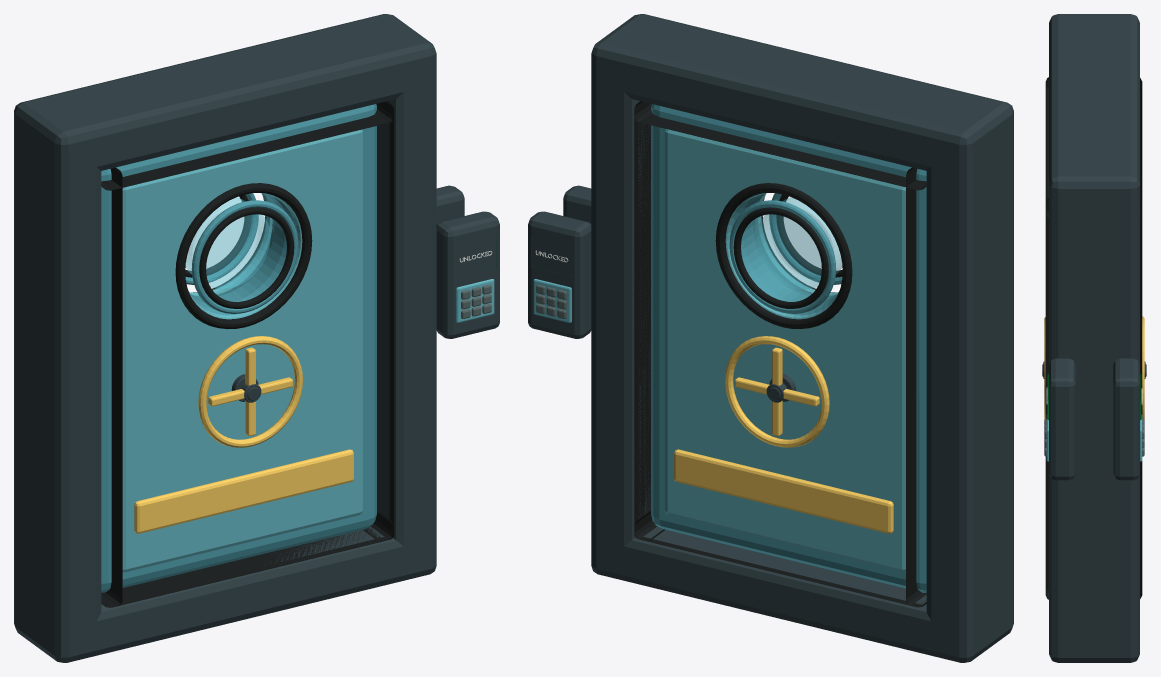
Rendered from Porte de sas standard.glb.
The picture shows the model from 3 angles, left to right: view 1: azimuth 30°, elevation 25°; view 2: azimuth 150°, elevation 25°; view 3: azimuth 270°, elevation 25°; orthographic projection. The views are drawn at different scales.
Parts seen in each view (by area): view 1: STD_HATCH_Front_Raised_Plate, STD_HATCH_Frame_Left, STD_HATCH_Frame_Top, STD_HATCH_Frame_Right, STD_HATCH_Moving_Door_Leaf_1p5x2m, STD_HATCH_Frame_Bottom_Threshold, STD_HATCH_Cartoon_Lower_Reinforcement, STD_HATCH_Front_Electronic_Control_Block, STD_HATCH_Inner_Rubber_Seal_Left, STD_HATCH_Inner_Rubber_Seal_Bottom, STD_HATCH_Front_Outer_Rubber_Pressure_Seal, STD_HATCH_Transparent_Center_Glass_Disk (+11 smaller); view 2: STD_HATCH_Back_Raised_Plate, STD_HATCH_Frame_Left, STD_HATCH_Frame_Top, STD_HATCH_Frame_Right, STD_HATCH_Frame_Bottom_Threshold, STD_HATCH_Moving_Door_Leaf_1p5x2m, STD_HATCH_Back_Lower_Reinforcement, STD_HATCH_Inner_Rubber_Seal_Right, STD_HATCH_Back_Electronic_Control_Block, STD_HATCH_Inner_Rubber_Seal_Left, STD_HATCH_Back_Outer_Rubber_Pressure_Seal, STD_HATCH_Transparent_Center_Glass_Disk (+11 smaller); view 3: STD_HATCH_Frame_Right, STD_HATCH_Frame_Top, STD_HATCH_Back_Electronic_Control_Block, STD_HATCH_Front_Electronic_Control_Block, STD_HATCH_Inner_Rubber_Seal_Right, STD_HATCH_Frame_Left, STD_HATCH_Inner_Rubber_Seal_Top, STD_HATCH_Back_Manual_Wheel_Ring, STD_HATCH_Frame_Bottom_Threshold, STD_HATCH_Front_Manual_Wheel_Ring.
Boxes of the visible parts, x1,y1,x2,y2 form: STD_HATCH_Front_Raised_Plate: (122,129,362,572); STD_HATCH_Frame_Left: (14,95,101,662); STD_HATCH_Frame_Top: (17,14,436,173); STD_HATCH_Frame_Right: (359,14,436,580); STD_HATCH_Moving_Door_Leaf_1p5x2m: (101,104,376,592); STD_HATCH_Frame_Bottom_Threshold: (46,526,436,662); STD_HATCH_Cartoon_Lower_Reinforcement: (134,449,353,533); STD_HATCH_Front_Electronic_Control_Block: (436,211,499,338); STD_HATCH_Inner_Rubber_Seal_Left: (101,167,122,607); STD_HATCH_Inner_Rubber_Seal_Bottom: (101,511,394,607); STD_HATCH_Front_Outer_Rubber_Pressure_Seal: (175,183,312,328); STD_HATCH_Transparent_Center_Glass_Disk: (185,197,270,289); STD_HATCH_Back_Raised_Plate: (665,129,905,572); STD_HATCH_Frame_Left: (926,95,1013,662); STD_HATCH_Frame_Top: (593,14,1012,173); STD_HATCH_Frame_Right: (591,14,668,578); STD_HATCH_Frame_Bottom_Threshold: (592,526,1012,662); STD_HATCH_Moving_Door_Leaf_1p5x2m: (651,104,926,592); STD_HATCH_Back_Lower_Reinforcement: (674,449,893,533); STD_HATCH_Inner_Rubber_Seal_Right: (634,118,665,540); STD_HATCH_Back_Electronic_Control_Block: (528,211,591,338); STD_HATCH_Inner_Rubber_Seal_Left: (906,167,926,607); STD_HATCH_Back_Outer_Rubber_Pressure_Seal: (715,183,852,328); STD_HATCH_Transparent_Center_Glass_Disk: (757,197,842,289); STD_HATCH_Frame_Right: (1049,164,1139,662); STD_HATCH_Frame_Top: (1049,15,1139,215); STD_HATCH_Back_Electronic_Control_Block: (1113,358,1139,480); STD_HATCH_Front_Electronic_Control_Block: (1049,358,1075,480); STD_HATCH_Inner_Rubber_Seal_Right: (1045,198,1142,595); STD_HATCH_Frame_Left: (1049,14,1139,34); STD_HATCH_Inner_Rubber_Seal_Top: (1045,77,1142,217); STD_HATCH_Back_Manual_Wheel_Ring: (1142,316,1144,419); STD_HATCH_Frame_Bottom_Threshold: (1057,631,1130,647); STD_HATCH_Front_Manual_Wheel_Ring: (1044,317,1045,419).
Bounding box in the file's own units: 1.75 × 2 × 0.3878.
